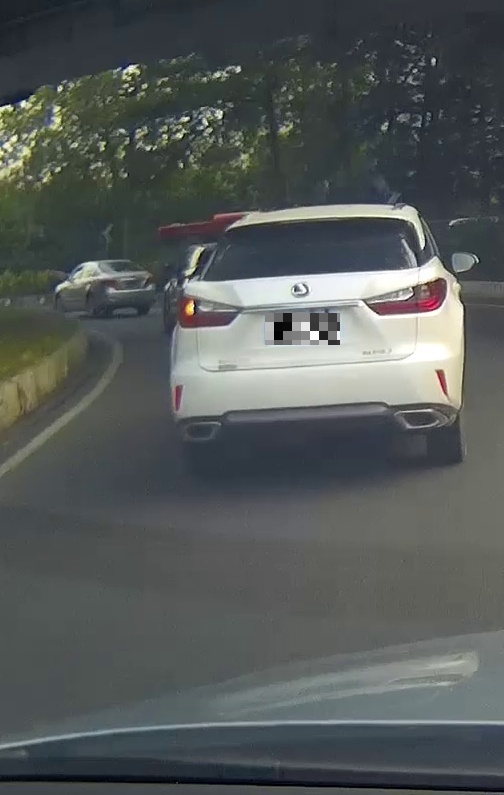L_light: (175, 293, 243, 328), (101, 279, 118, 287)
R_light: (362, 277, 448, 315), (144, 276, 155, 284)
T_light: (293, 217, 327, 227), (113, 262, 122, 266)
day-left: (170, 203, 465, 470)
day-no: (96, 259, 155, 317)
plate_1: (265, 313, 340, 345)
